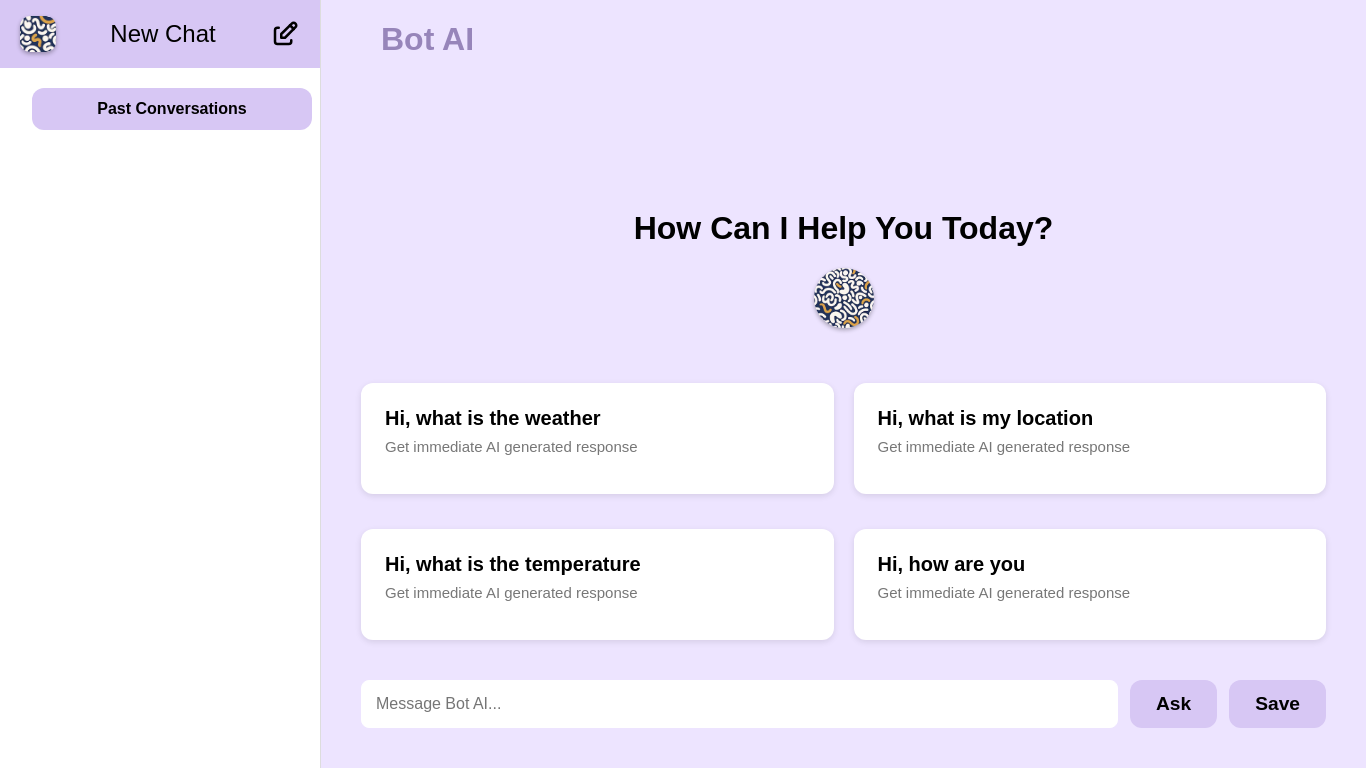
Test: Bot AI Application › Should have an input field to ask questions and return a response
Type "Hi, what is the weather?" into the field with placeholder "Message Bot AI..." at {"x": 740, "y": 704}, box [361,680,1118,728]
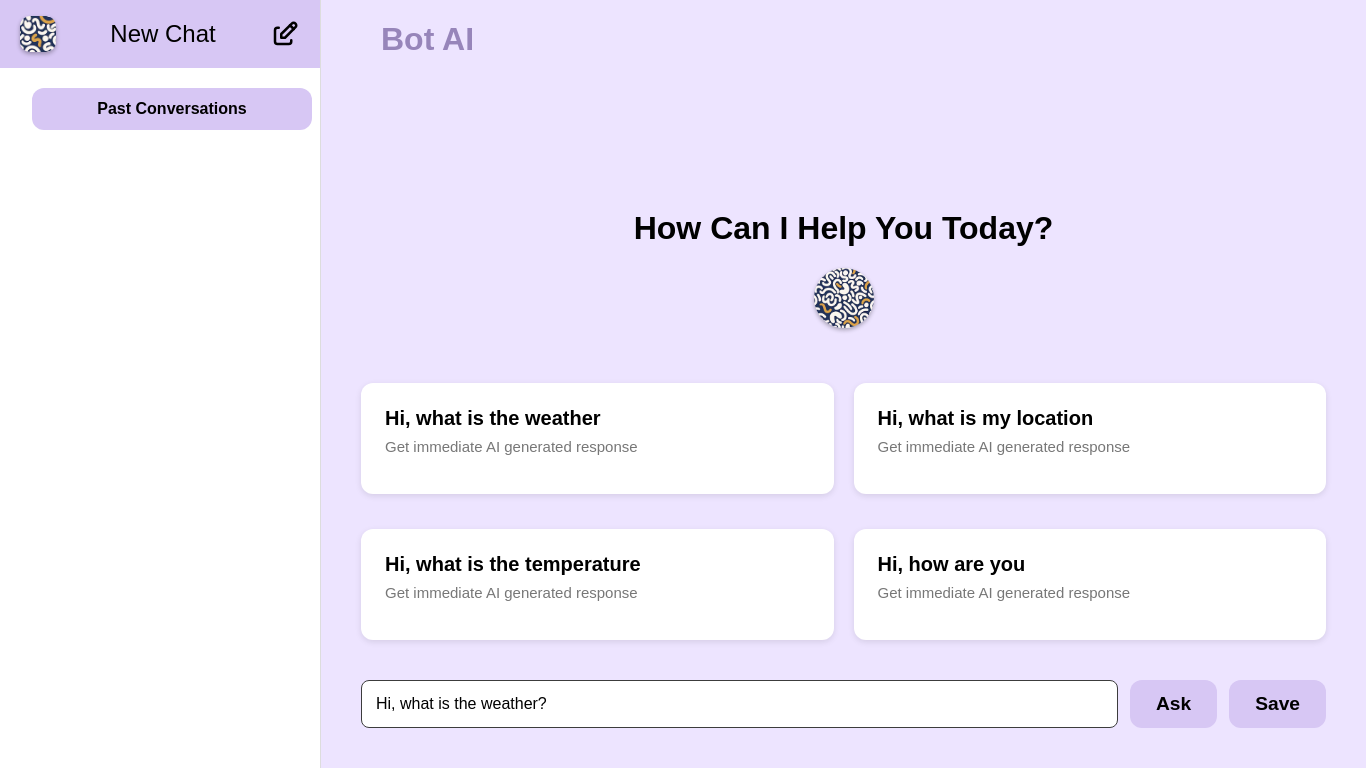
Click the submit button at {"x": 1174, "y": 704}, box [1130,680,1217,728]
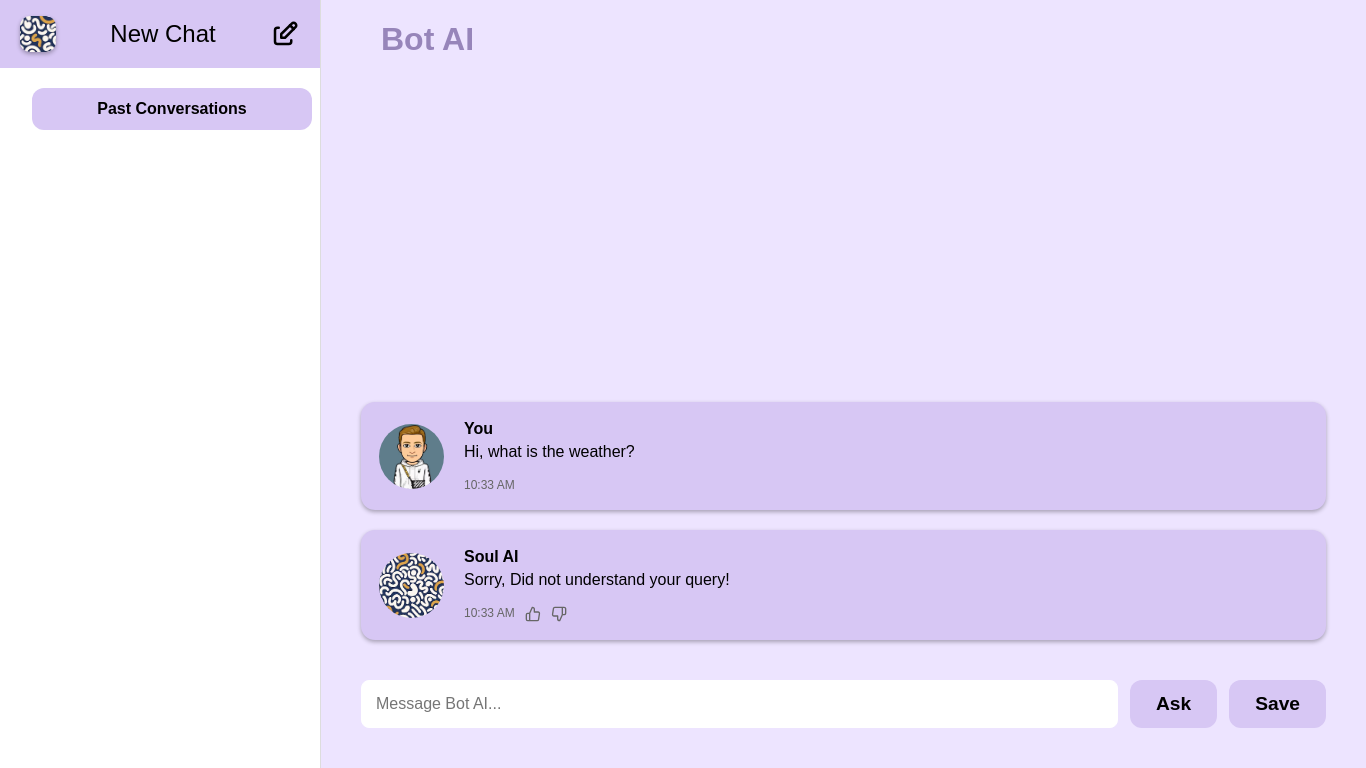
Result: the text "Soul AI" is shown at [464,548,518,565]
